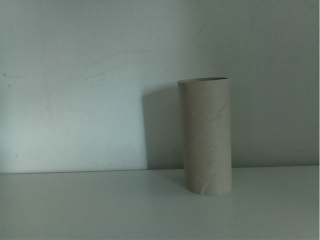rollo papel: (176, 77, 234, 195)
